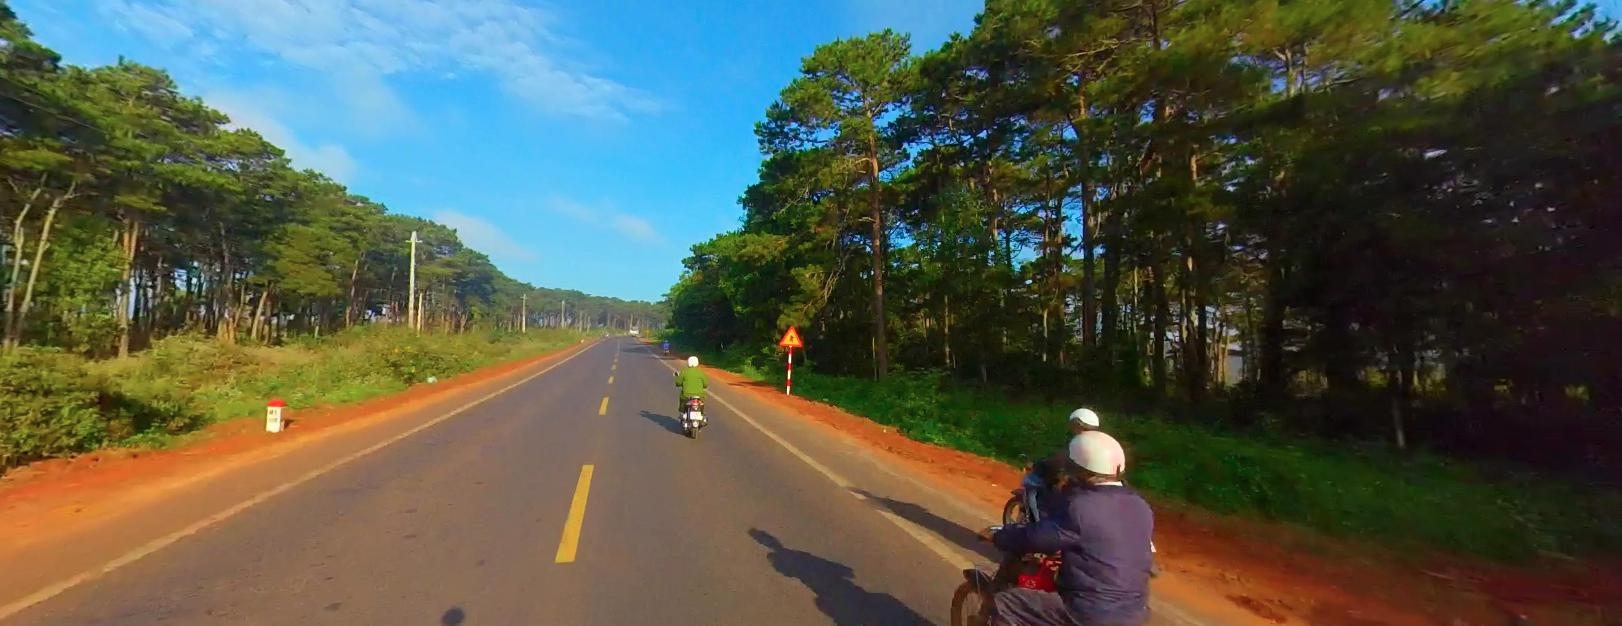Nguy hiem: (778, 323, 801, 344)
